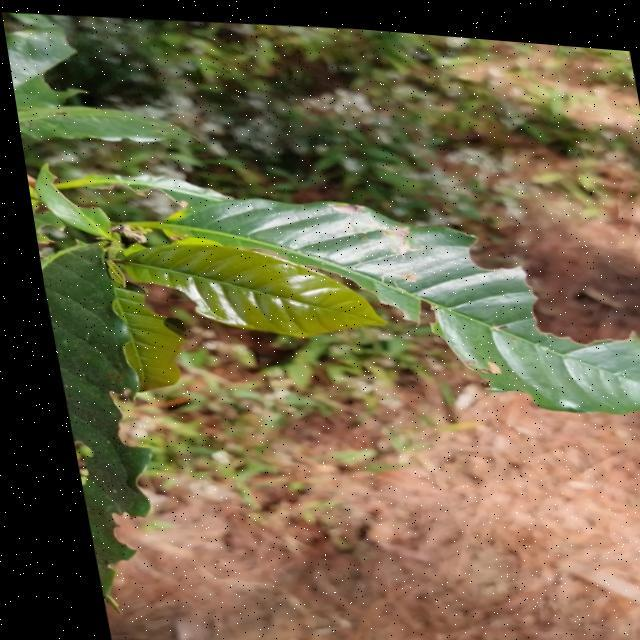leaves: (104, 230, 382, 351)
